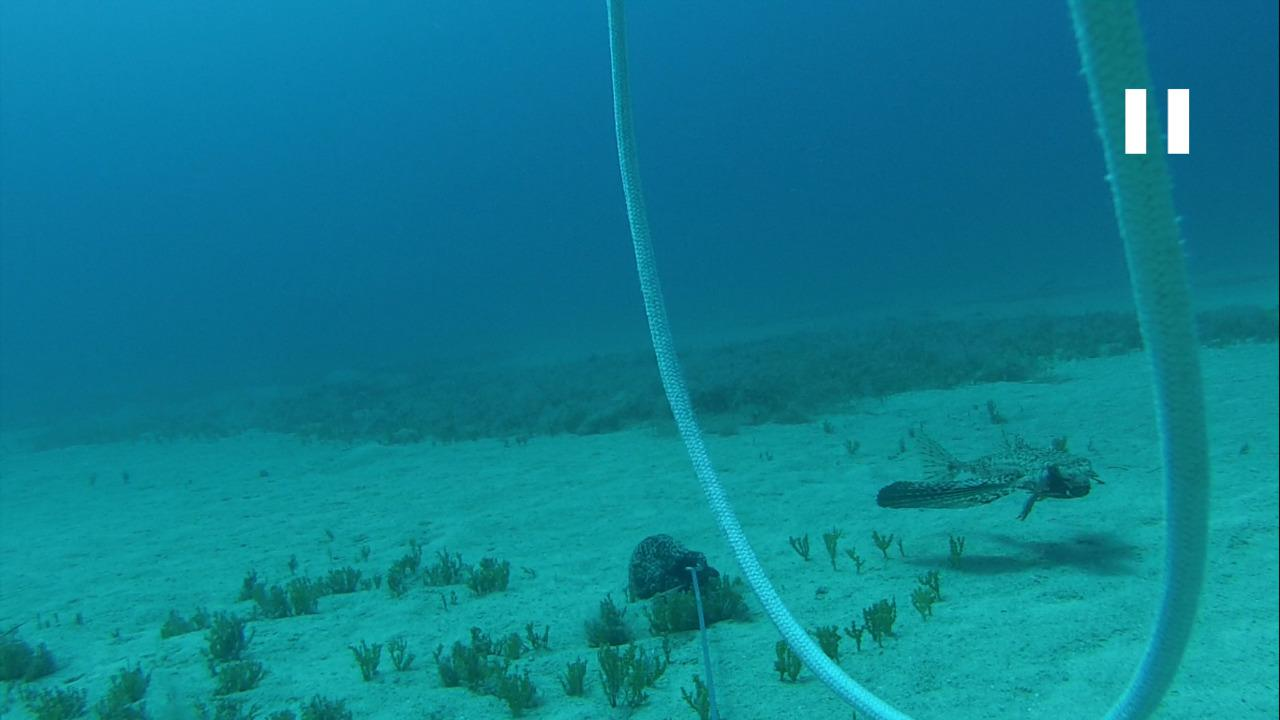dactylopterus: (875, 433, 1108, 526)
